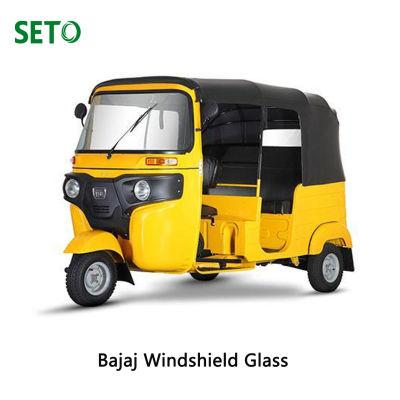threewheel: (62, 76, 355, 308)
